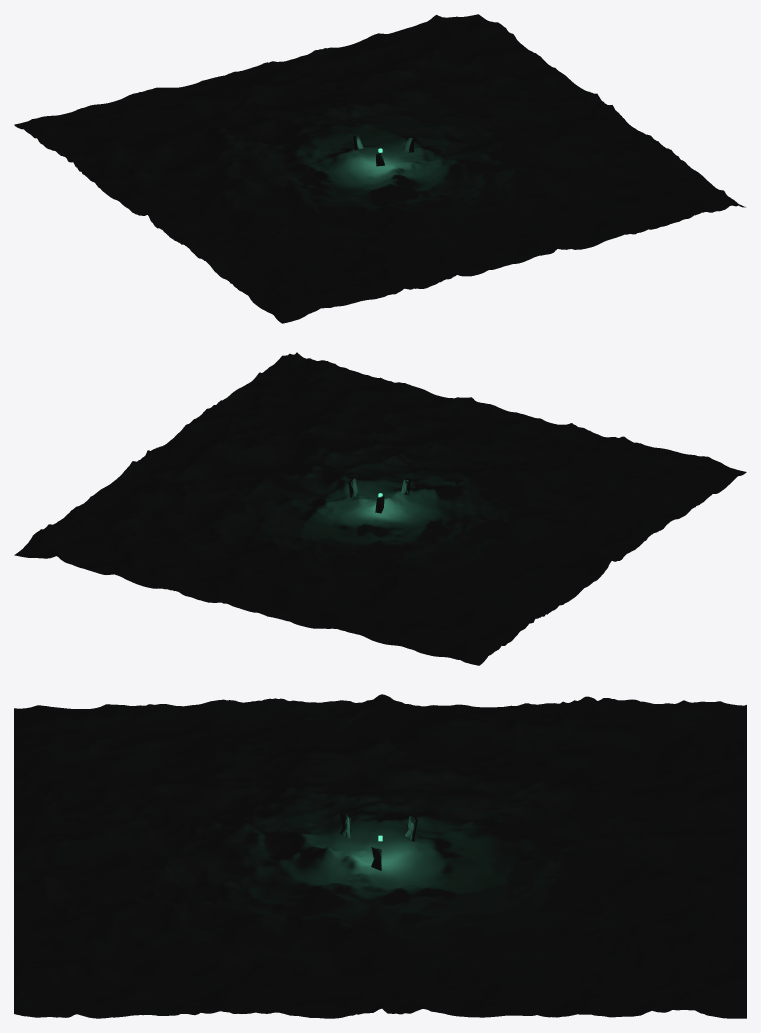
The model's file is landing-page.glb.
The picture shows the model from 3 angles, top to bottom: view 1: azimuth 30°, elevation 25°; view 2: azimuth 150°, elevation 25°; view 3: azimuth 270°, elevation 25°; orthographic projection. The views are drawn at different scales.
Visible parts, largest first — view 1: base; view 2: base; view 3: base.
Boxes of the visible parts, box(x1,y1,x2,y2) form: base: box(14, 14, 745, 323); base: box(14, 352, 746, 665); base: box(14, 694, 746, 1018).
Size of the model in its own units: 40 by 2.46 by 40.
10 materials, 4 textured.
